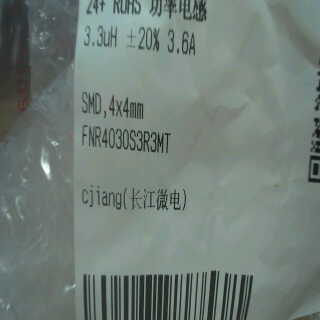3.3uH: (80, 20, 122, 61)
